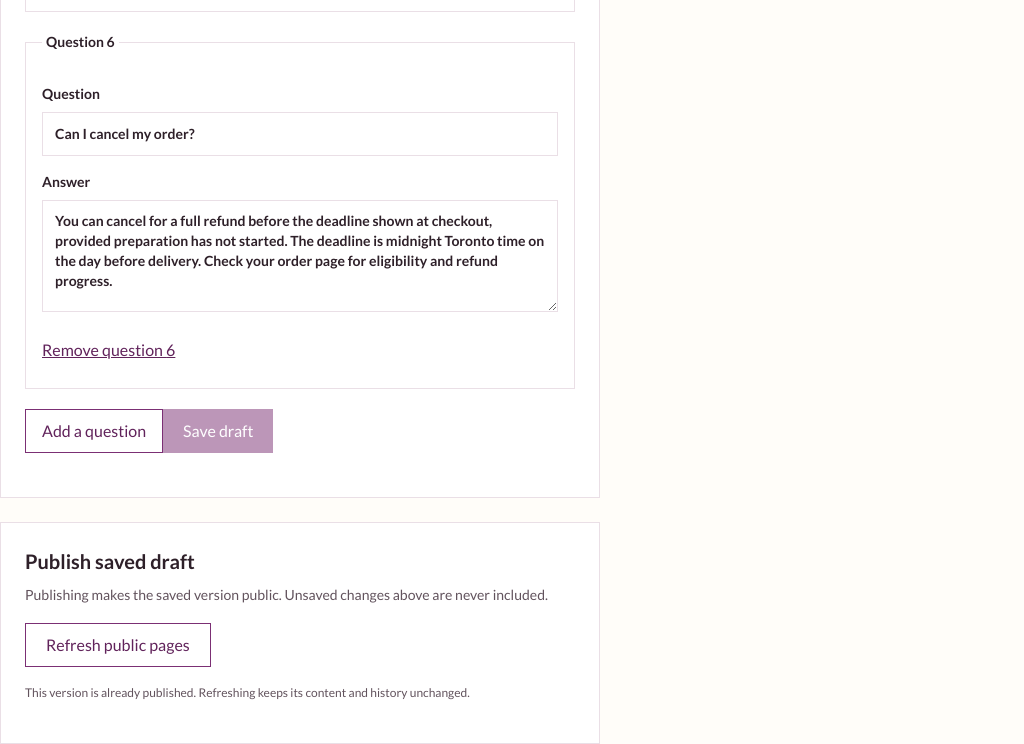
it: owner website editor › lets the owner add and remove FAQs without losing existing answers
This screenshot has width=1024, height=744.
(page scrolled)
Click the button "Add a question" at (94, 431), box left=25, top=409, right=163, bottom=453
(page scrolled)
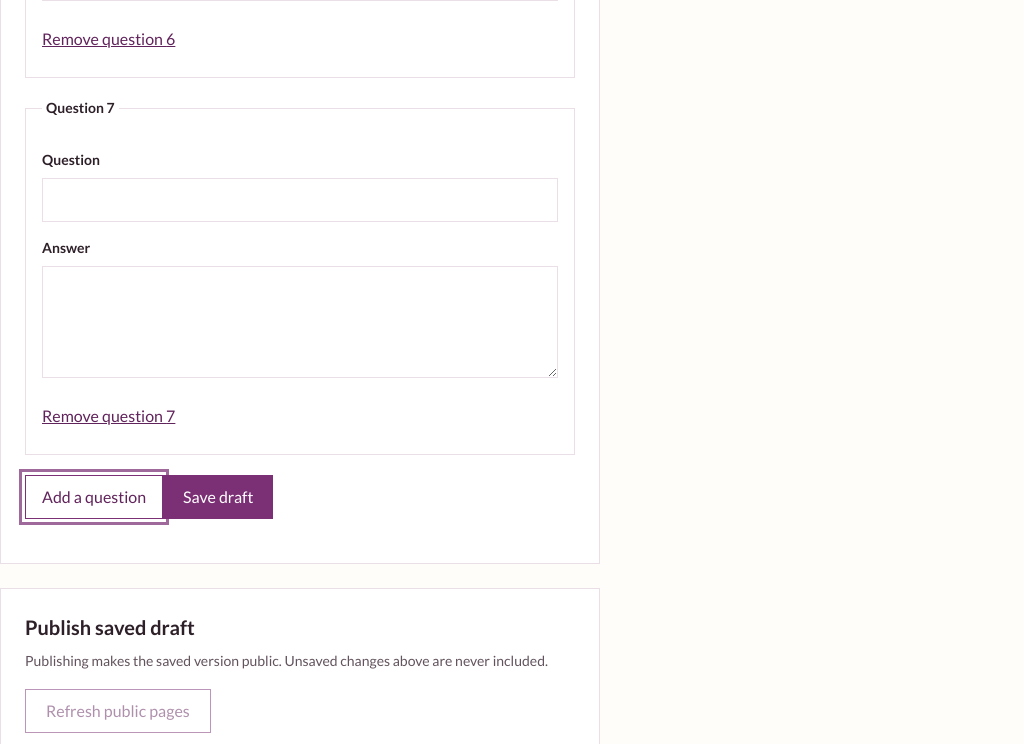
Expected: the number of fields labelled "Question" is 7
Click the button "Remove question 7" at (109, 416), box left=42, top=394, right=175, bottom=438
(page scrolled)
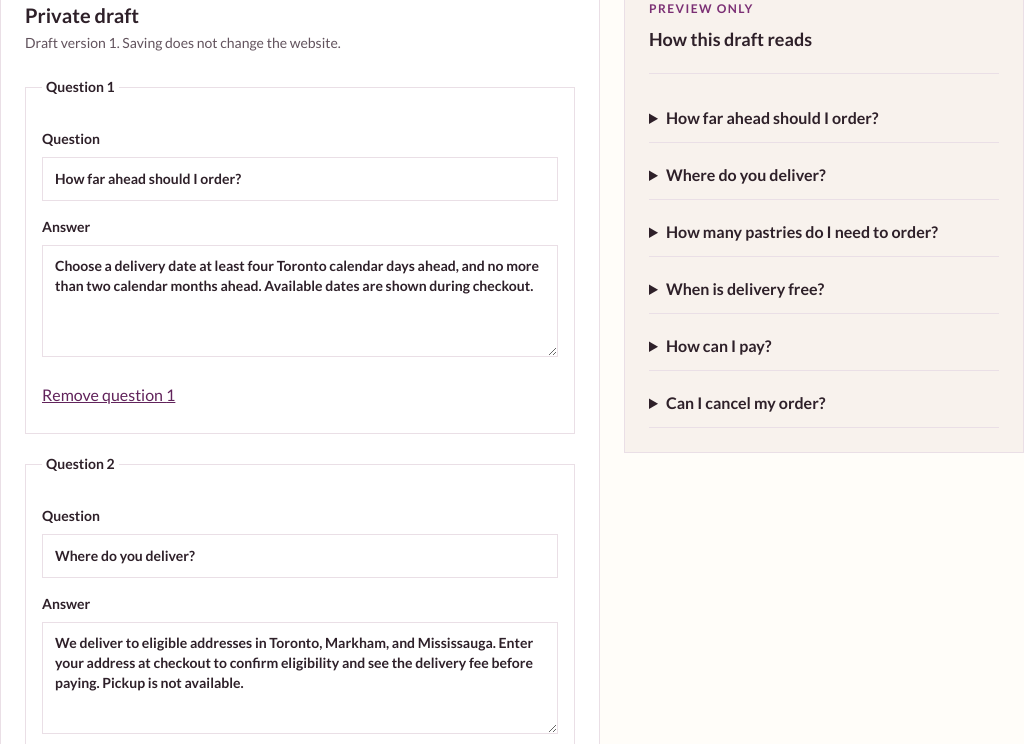
Expected: the 1st text box labelled "Answer" holds "Choose a delivery date at least four Toronto calendar days ahead, and no more than two calendar months ahead. Available dates are shown during checkout.", left=42, top=245, right=558, bottom=357
Expected: the number of fields labelled "Question" is 6
